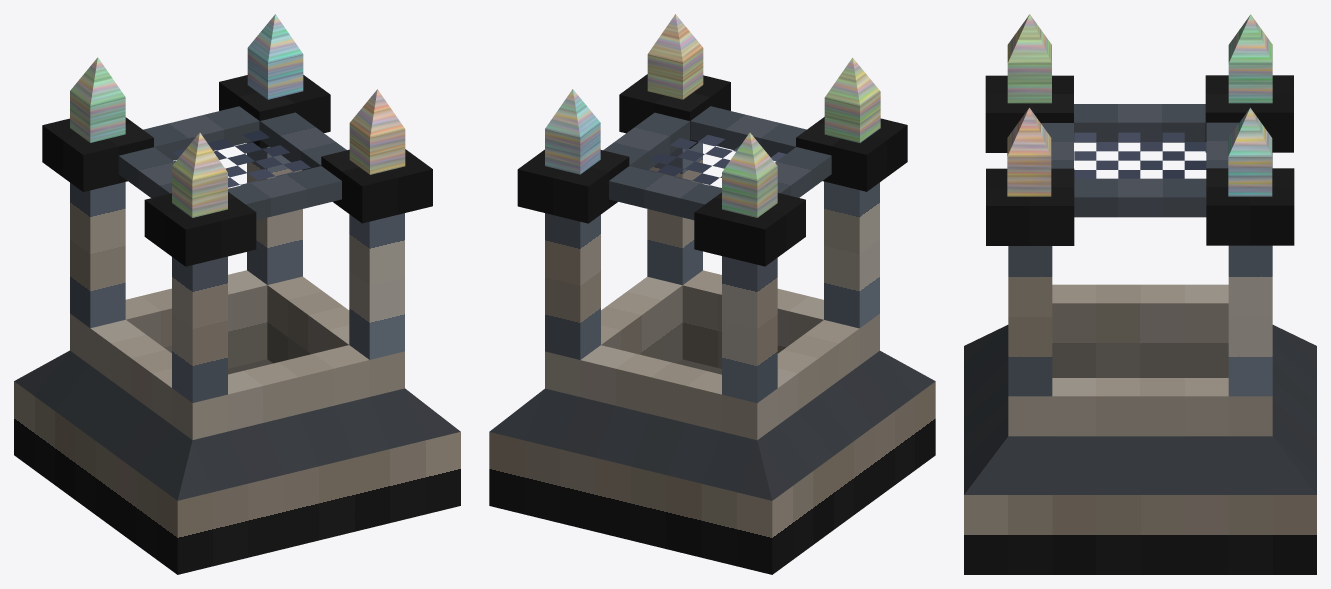
Rendered from station_fumefilter_main.obj.
3 views of the same model, side by side, from view 1: azimuth 30°, elevation 25°; view 2: azimuth 150°, elevation 25°; view 3: azimuth 270°, elevation 25° (orthographic). The views are drawn at different scales.
Parts seen in each view (by area): view 1: FUMEFILTER_Cube.005; view 2: FUMEFILTER_Cube.005; view 3: FUMEFILTER_Cube.005.
Boxes of the visible parts, left/top/right/bottom form: FUMEFILTER_Cube.005: left=14, top=14, right=460, bottom=574; FUMEFILTER_Cube.005: left=489, top=14, right=935, bottom=574; FUMEFILTER_Cube.005: left=964, top=14, right=1316, bottom=574.
Bounding box in the file's own units: 0.5 × 0.6875 × 0.5.
